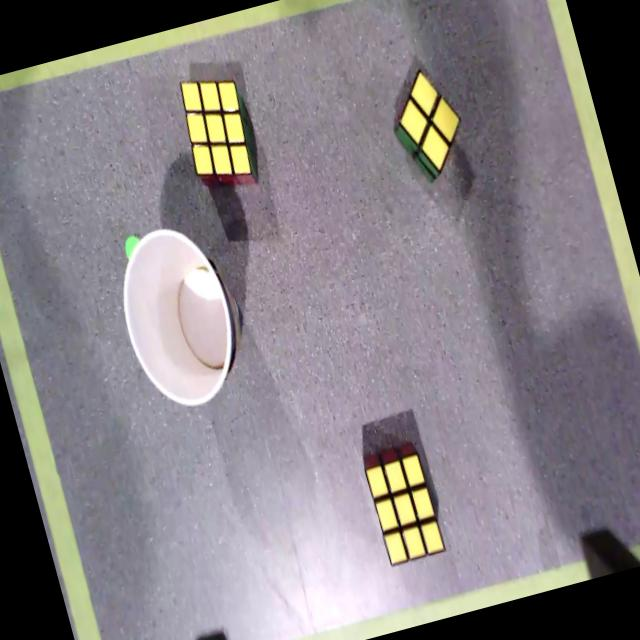cube2-yellow: (401, 70, 460, 170)
cube3-yellow: (364, 455, 446, 564), (180, 79, 251, 174)
